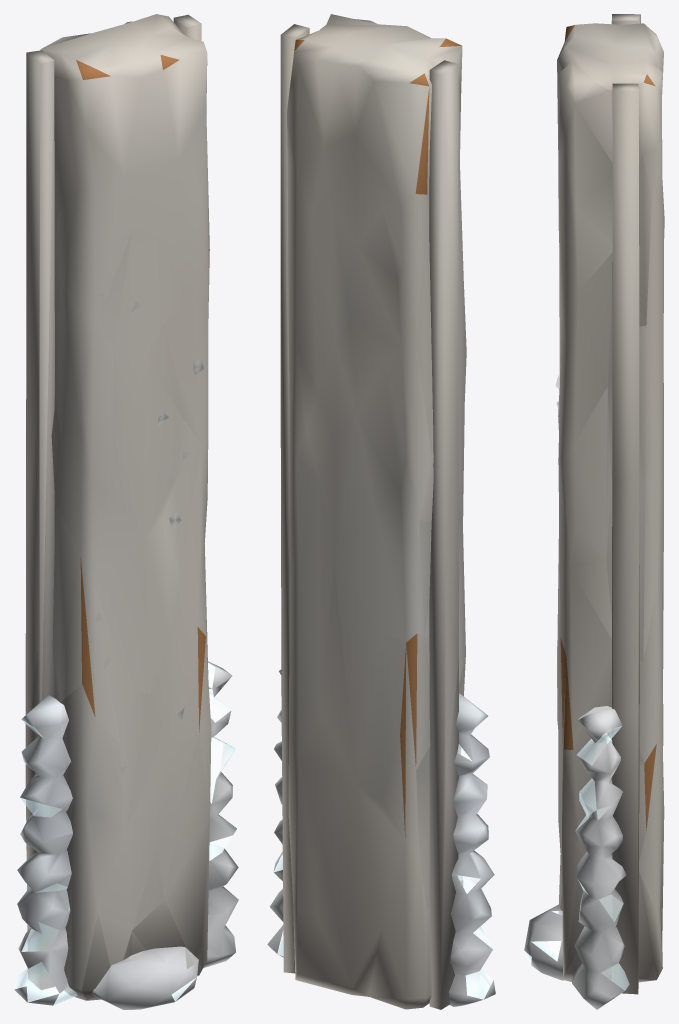
Rendered from frost_window_cliff_mullion_lod2.glb.
The picture shows the model from 3 angles, left to right: view 1: azimuth 30°, elevation 25°; view 2: azimuth 150°, elevation 25°; view 3: azimuth 270°, elevation 25°; orthographic projection. The views are drawn at different scales.
Visible parts, largest first — view 1: frost_window_cliff_mullion.001; view 2: frost_window_cliff_mullion.001; view 3: frost_window_cliff_mullion.001.
Boxes of the visible parts, <box> form: frost_window_cliff_mullion.001: <box>14,14,238,1009</box>; frost_window_cliff_mullion.001: <box>267,14,495,1009</box>; frost_window_cliff_mullion.001: <box>524,14,664,1009</box>.
Bounding box in the file's own units: 9.73 × 40.68 × 5.62.
